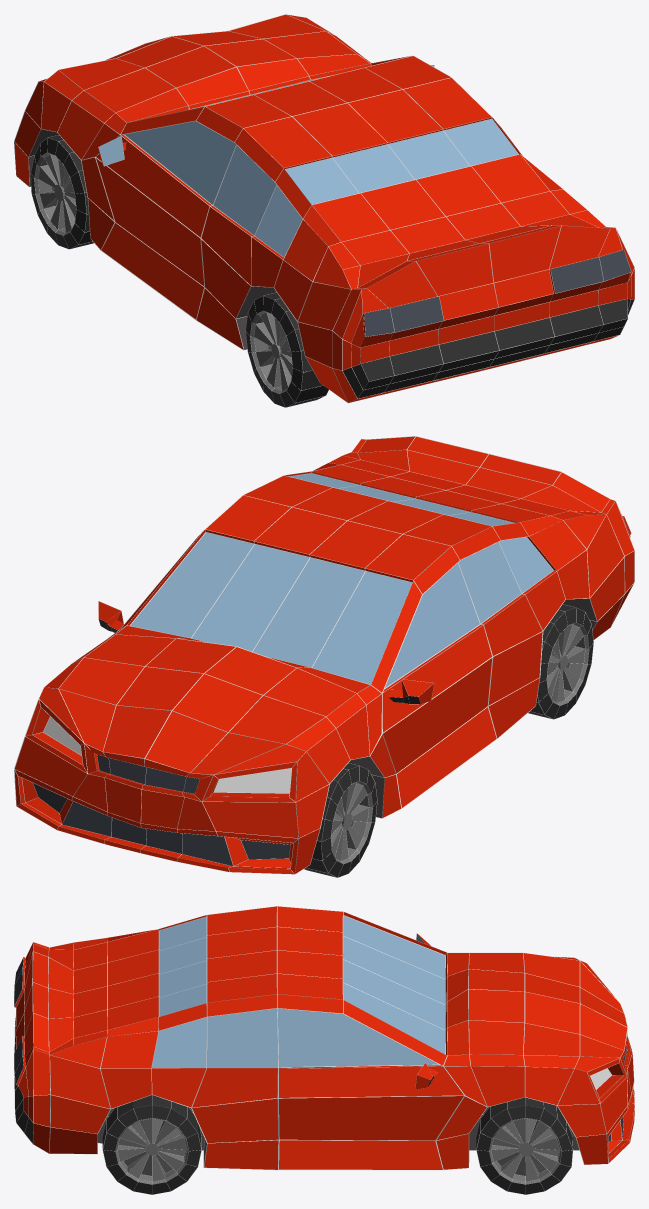
Rendered from bil_Emil.fbx.
The picture shows the model from 3 angles, top to bottom: view 1: azimuth 30°, elevation 25°; view 2: azimuth 150°, elevation 25°; view 3: azimuth 270°, elevation 25°; orthographic projection. The views are drawn at different scales.
Parts seen in each view (by area): view 1: Cube; view 2: Cube; view 3: Cube.
Part boxes in pixels (x1,y1,x2,y2): Cube: (14, 14, 634, 407); Cube: (14, 436, 634, 877); Cube: (14, 906, 634, 1194).
Bounding box in the file's own units: 235 × 142 × 435.
